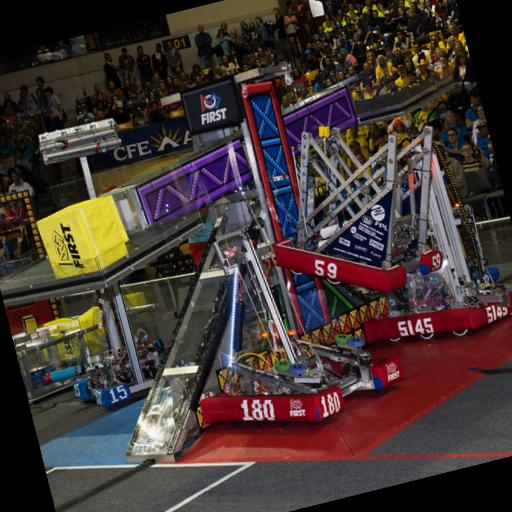robot: (156, 186, 412, 457), (246, 103, 450, 315), (324, 134, 512, 363)
